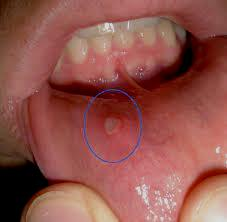Ulcer: (101, 114, 126, 136)
